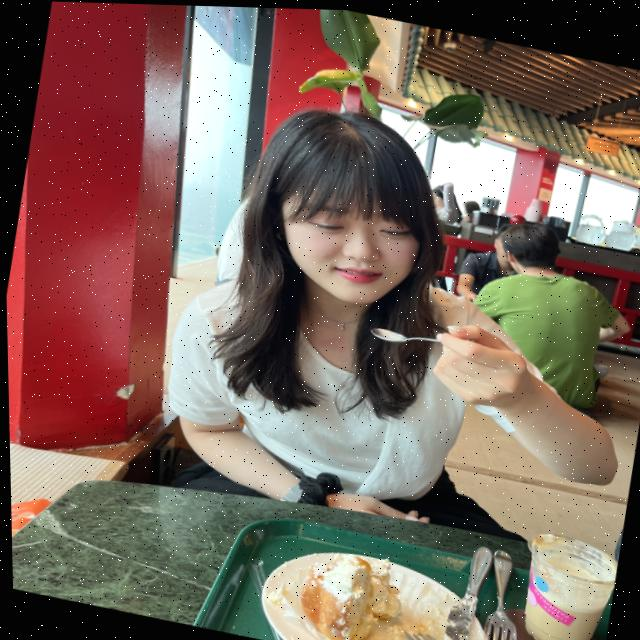eating-person: (131, 64, 640, 561)
